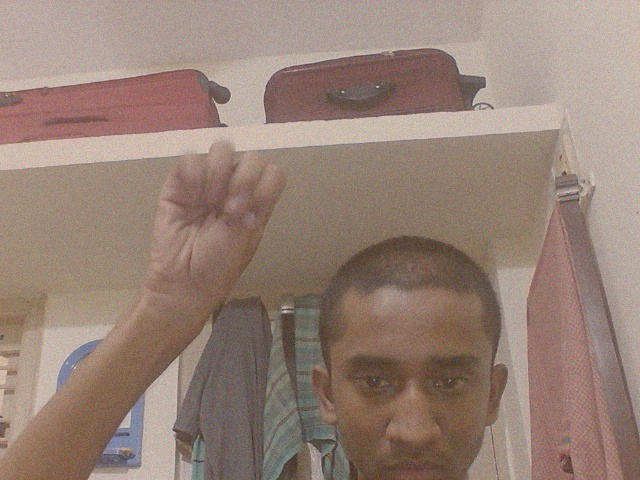hand: (146, 140, 291, 324)
